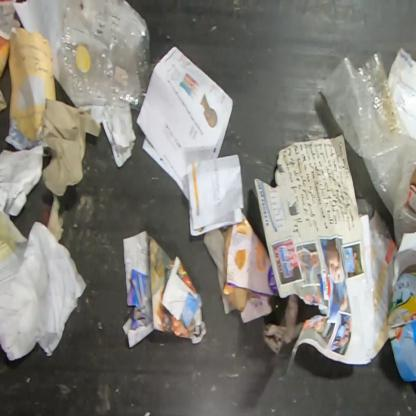cardboard: (386, 271, 416, 382)
rigid_plastic: (62, 0, 151, 109)
soft_plastic: (319, 51, 415, 251)
